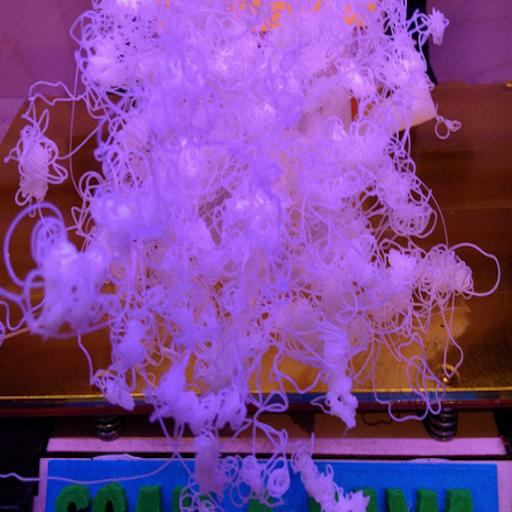spaghetti: (11, 2, 507, 496)
